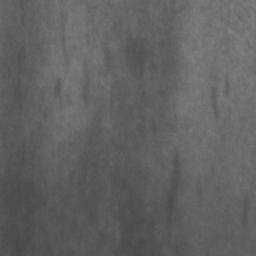Inclusion: (166, 152, 182, 238)
